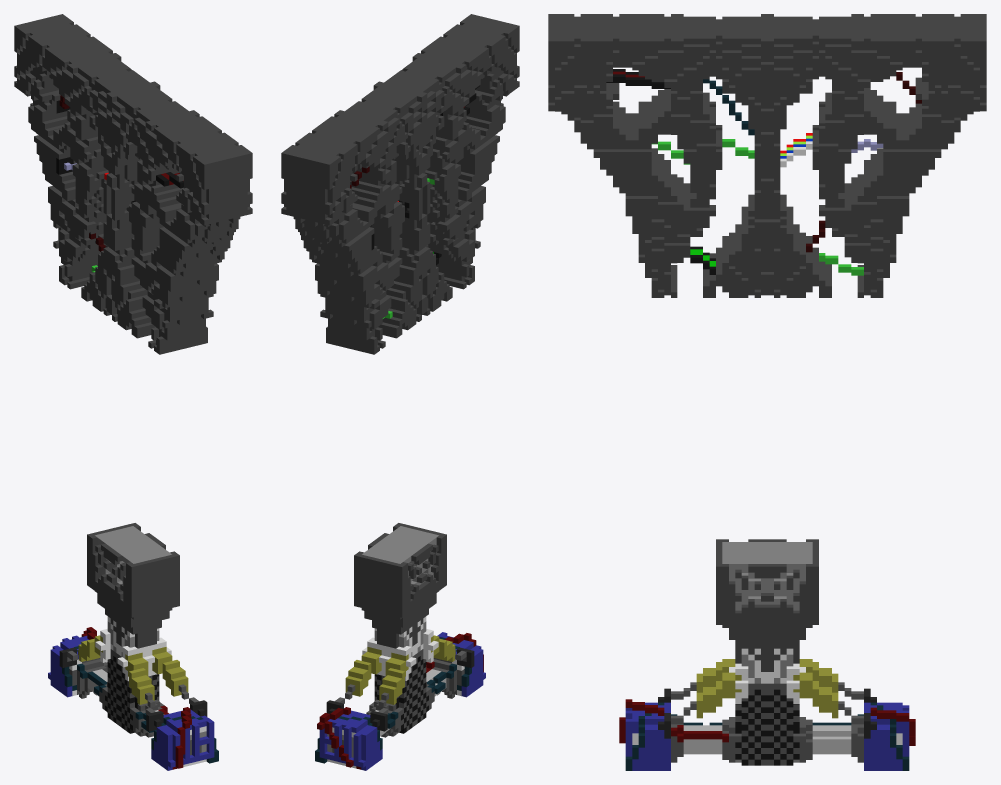
Rendered from Bot -9.obj.
3 views of the same model, side by side, from view 1: azimuth 30°, elevation 25°; view 2: azimuth 150°, elevation 25°; view 3: azimuth 270°, elevation 25° (orthographic). The views are drawn at different scales.
Parts seen in each view (by area): view 1: Bot -9; view 2: Bot -9; view 3: Bot -9.
Boxes of the visible parts, <box> form: Bot -9: <box>14,14,252,770</box>; Bot -9: <box>281,14,519,770</box>; Bot -9: <box>548,14,986,770</box>.
Size of the model in its own units: 12 by 126 by 68.
Materials: 1 (1 with a texture image).
